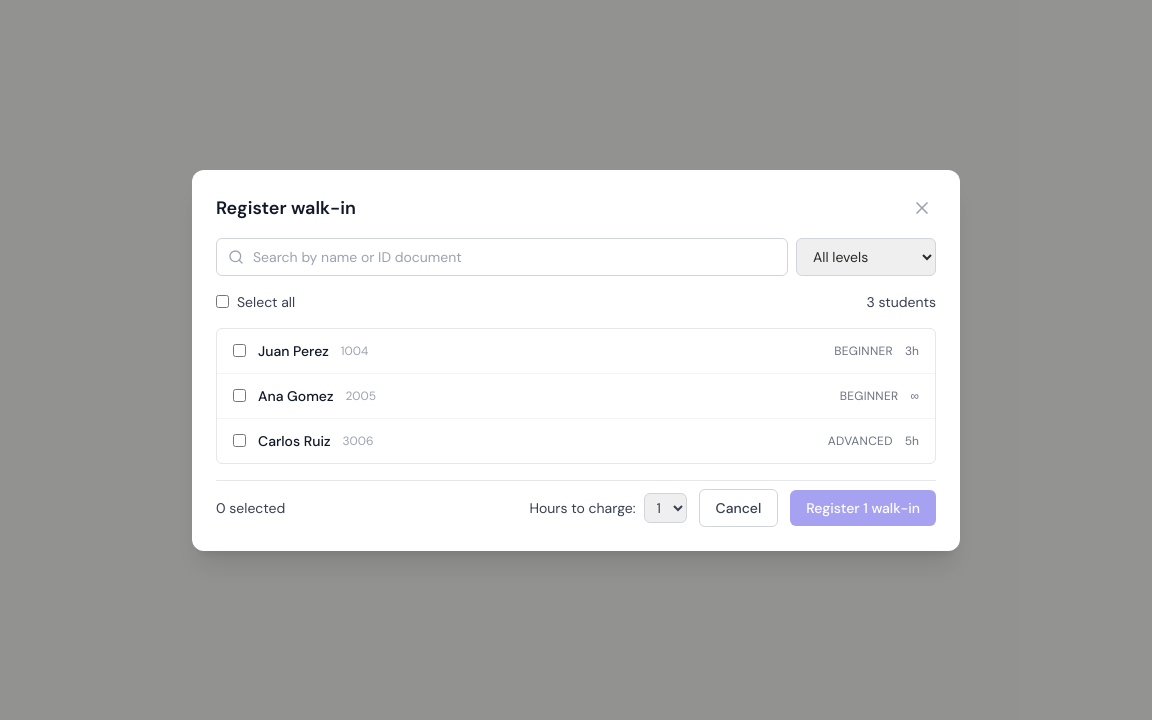
Test: WalkInModal › shows success banner after all-succeed submit
Click the text "Juan Perez" at (293, 350), box [258,340,329,360]
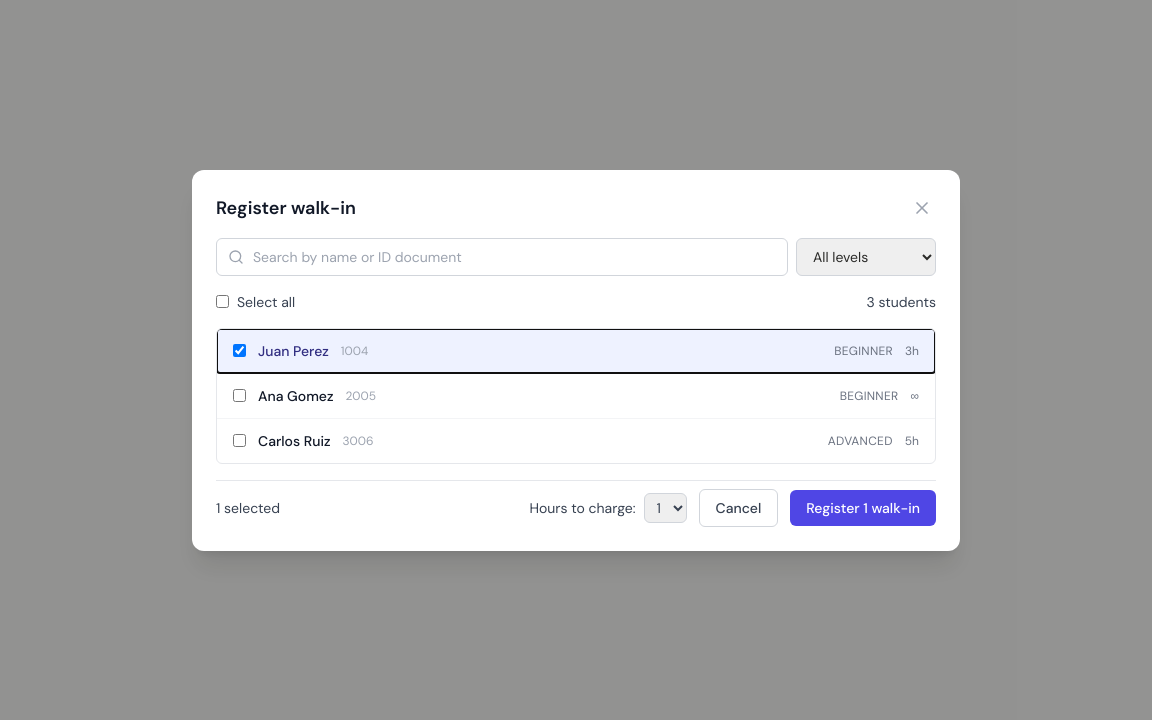
Click the button "Register 1 walk-in" at (863, 508), box [790,490,936,526]
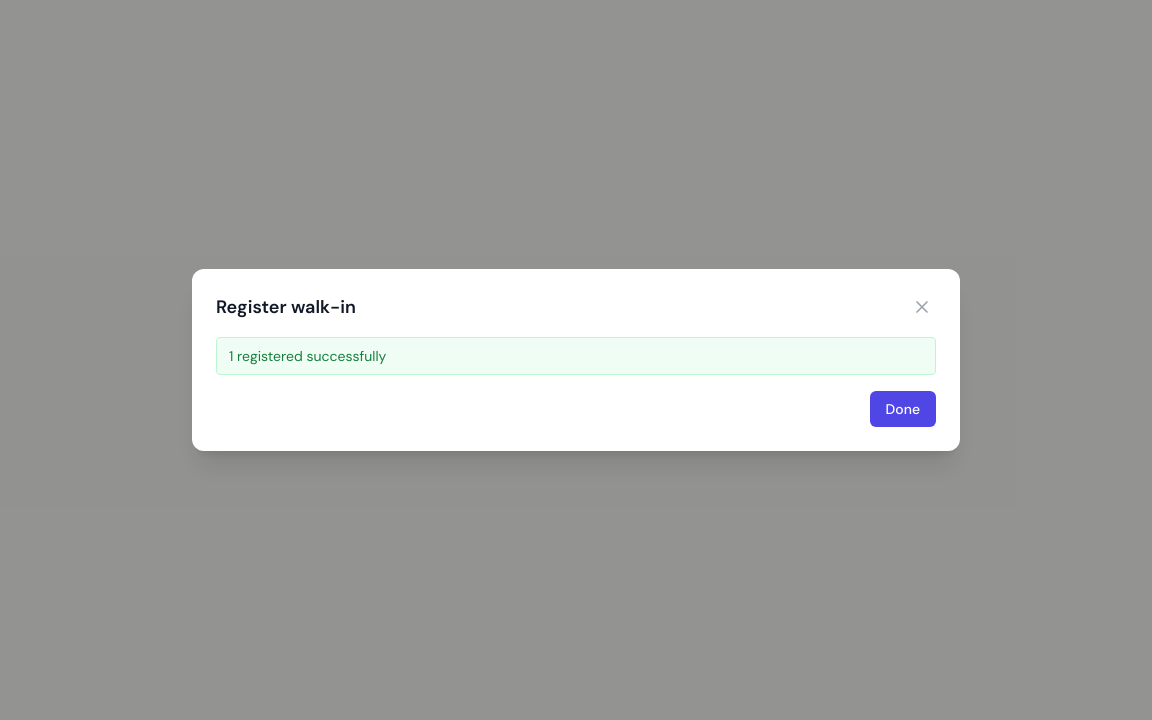
Expected: the text "1 registered successfully" is shown, [216,337,936,375]
Expected: the button "Done" is shown, [870,391,936,427]
